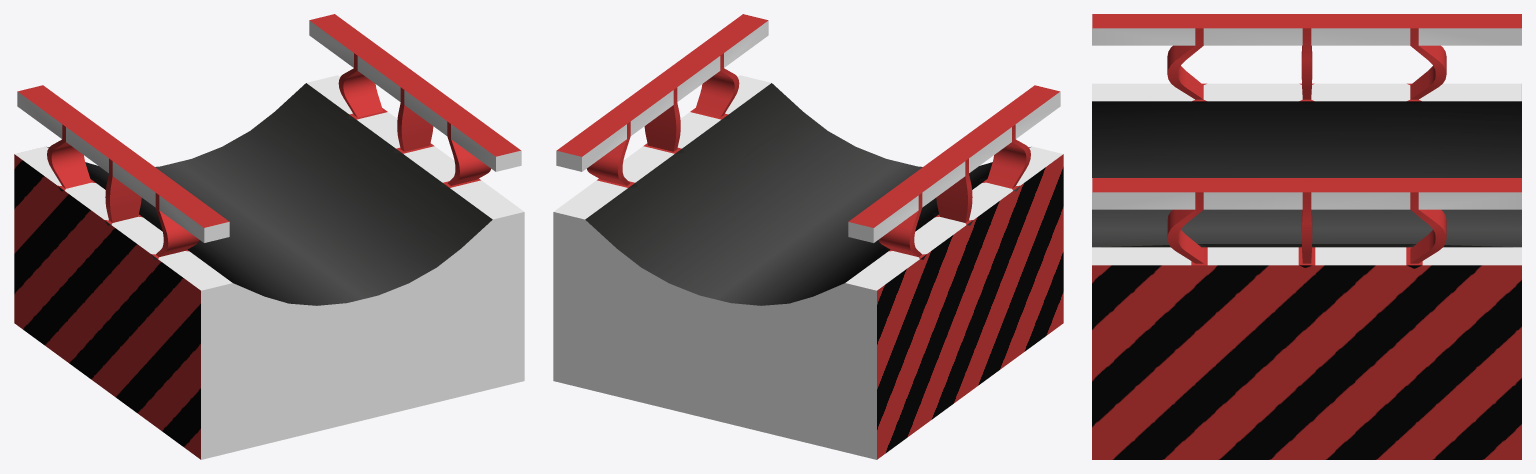
The model's file is Block_RB_Basic.fbx.
3 views of the same model, side by side, from view 1: azimuth 30°, elevation 25°; view 2: azimuth 150°, elevation 25°; view 3: azimuth 270°, elevation 25° (orthographic). The views are drawn at different scales.
Visible parts, largest first — view 1: Cube; view 2: Cube; view 3: Cube.
Boxes of the visible parts, bbox=[...] form: Cube: bbox=[14, 14, 524, 459]; Cube: bbox=[553, 14, 1063, 459]; Cube: bbox=[1092, 14, 1521, 459].
Bounding box in the file's own units: 400 × 273 × 400.
